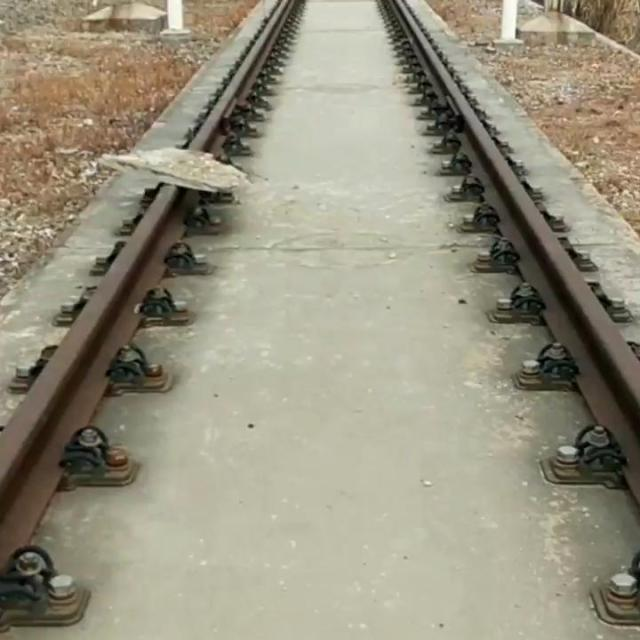rail: (386, 1, 640, 505), (1, 185, 197, 572), (191, 1, 297, 152)
